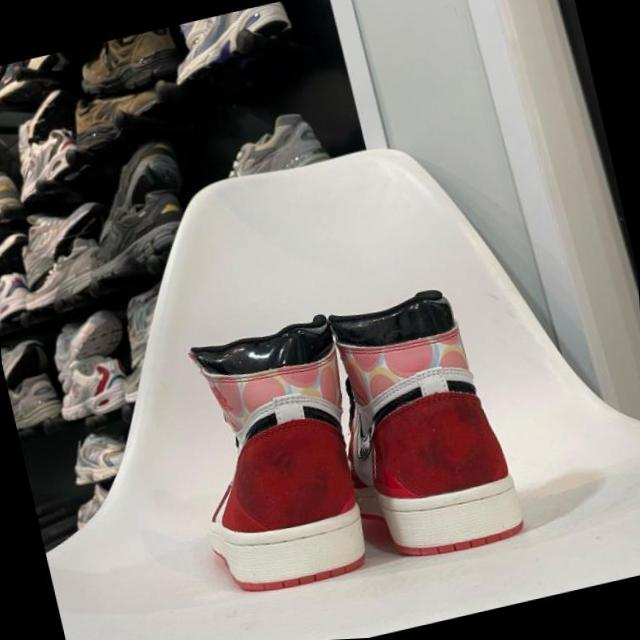nike_fake_jordan: (157, 312, 380, 605), (315, 279, 526, 573)
